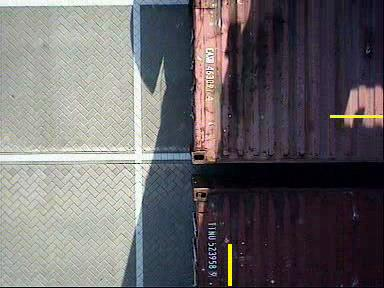groundmarker_2: (7, 32, 125, 117)
